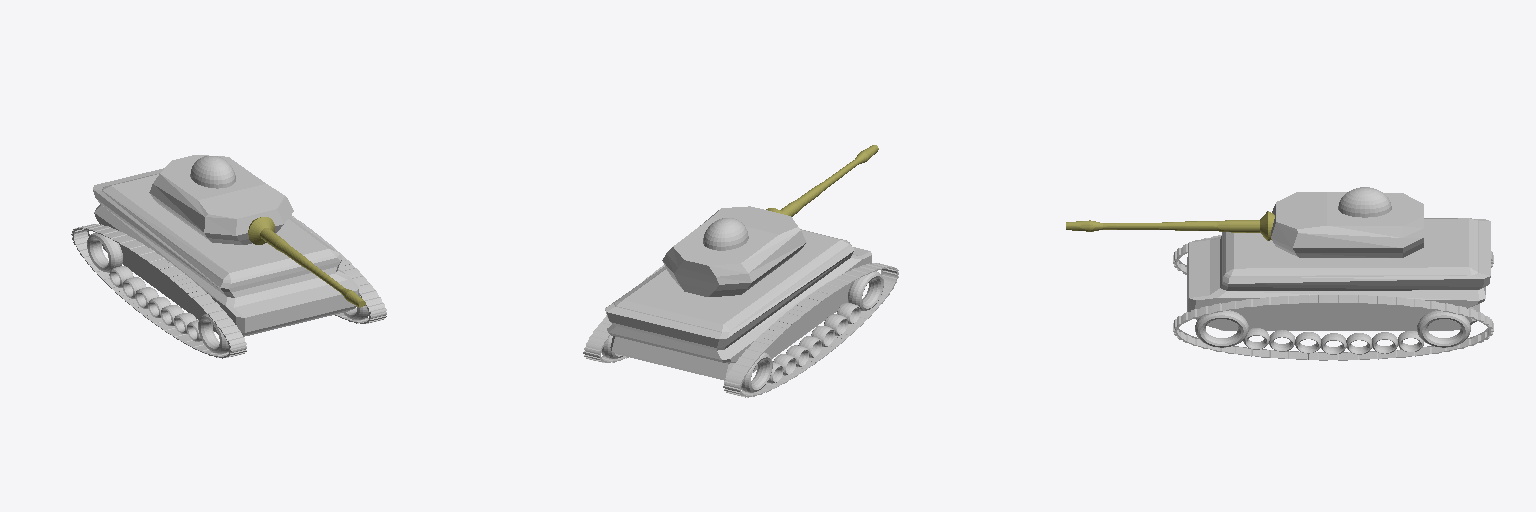
Rendered from PanzerTiger.obj.
3 views of the same model, side by side, from view 1: azimuth 30°, elevation 25°; view 2: azimuth 150°, elevation 25°; view 3: azimuth 270°, elevation 25° (orthographic).
Parts seen in each view (by area): view 1: Cubo, Cubo.001, Gear.001, Rosca.008, Cilindro, Gear; view 2: Cubo, Cubo.001, Gear.001, Rosca.008, Cilindro, Gear; view 3: Cubo, Cubo.001, Gear, Rosca.010, Cilindro.
Part boxes in pixels (x1,y1,x2,y2): Cubo: (93,168,359,336); Cubo.001: (149,155,293,244); Gear.001: (71,224,246,358); Rosca.008: (87,232,229,353); Cilindro: (248,217,365,307); Gear: (290,215,386,323); Cubo: (605,229,871,380); Cubo.001: (662,206,806,296); Gear.001: (723,263,898,397); Rosca.008: (741,271,883,392); Cilindro: (766,145,878,216); Gear: (583,265,664,362); Cubo: (1187,218,1490,330); Cubo.001: (1271,187,1423,257); Gear: (1173,295,1493,360); Rosca.010: (1195,310,1470,354); Cilindro: (1066,211,1274,240).
Size of the model in its own units: 22.74 by 18.62 by 54.06.